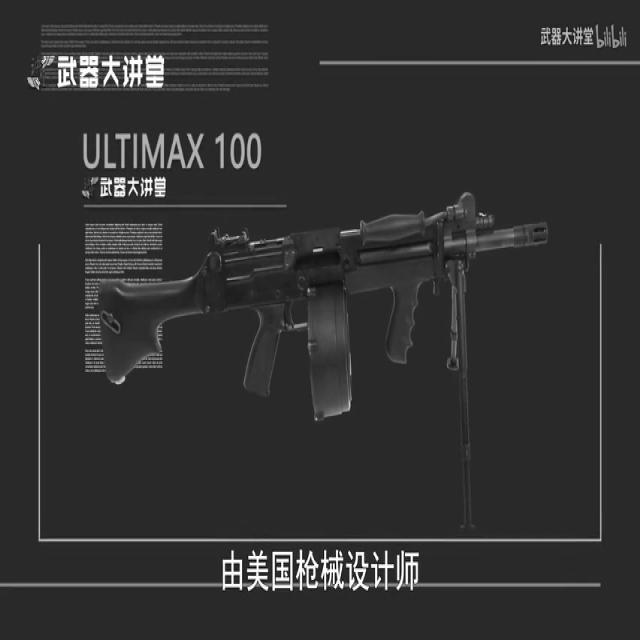Sub-machine-gun: (58, 147, 610, 478)
